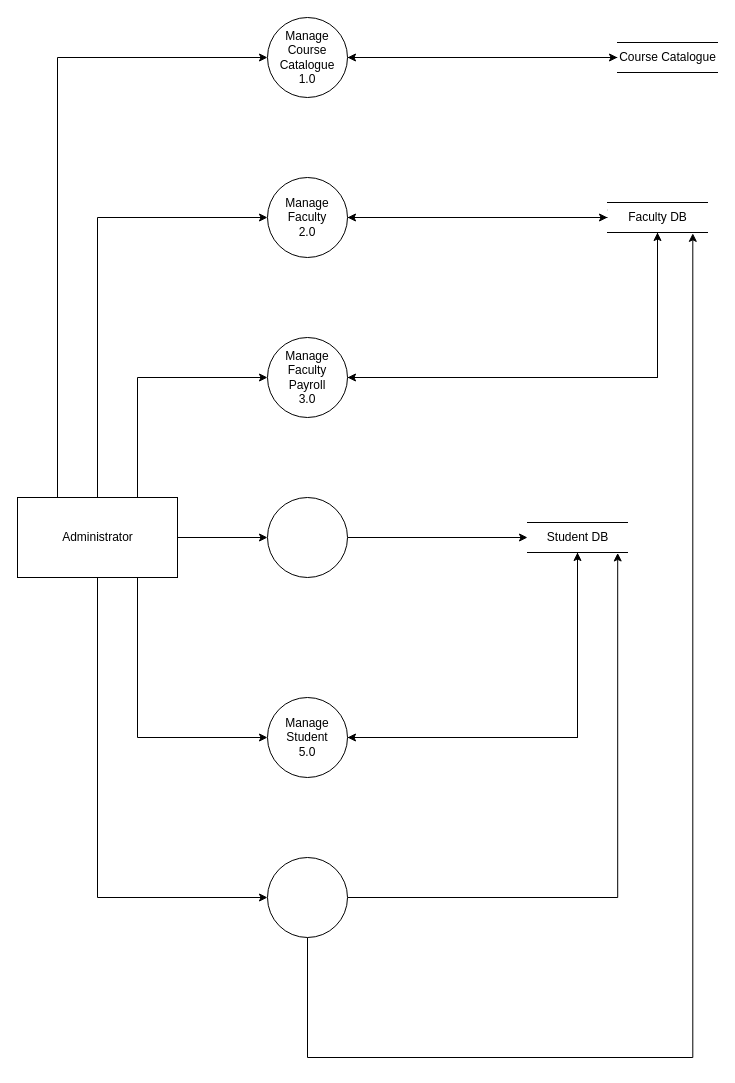
The diagram is 735 pixels wide and 1083 high, and some of its shapes have lost their labels. The shapes that lost their labels are listed below. From the top down, each one's box as (x1, y1, x2, y2) in pixels, then its label:
(266, 496, 348, 578): Manage Student Payments 4.0
(266, 856, 348, 938): Verify Documents 6.0
